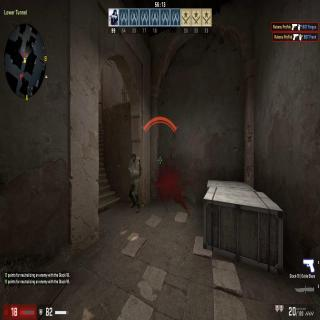CT-Body: (128, 152, 140, 208)
CT-Head: (130, 151, 136, 160)
